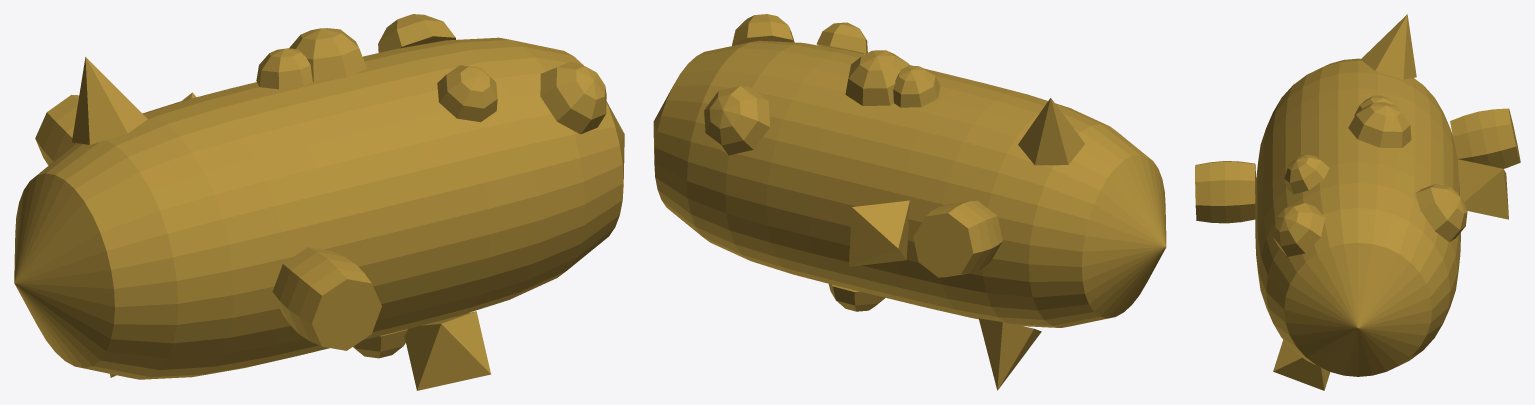
File: exp1_barrel_asym_01.glb
3 views of the same model, side by side, from view 1: azimuth 30°, elevation 25°; view 2: azimuth 150°, elevation 25°; view 3: azimuth 270°, elevation 25° (orthographic). The views are drawn at different scales.
Parts seen in each view (by area): view 1: exp1_barrel_asym_01; view 2: exp1_barrel_asym_01; view 3: exp1_barrel_asym_01.
Boxes of the visible parts, left/top/right/bottom form: exp1_barrel_asym_01: left=14, top=14, right=624, bottom=390; exp1_barrel_asym_01: left=653, top=14, right=1166, bottom=390; exp1_barrel_asym_01: left=1195, top=14, right=1520, bottom=390.
Size of the model in its own units: 3.31 by 1.84 by 2.06.
